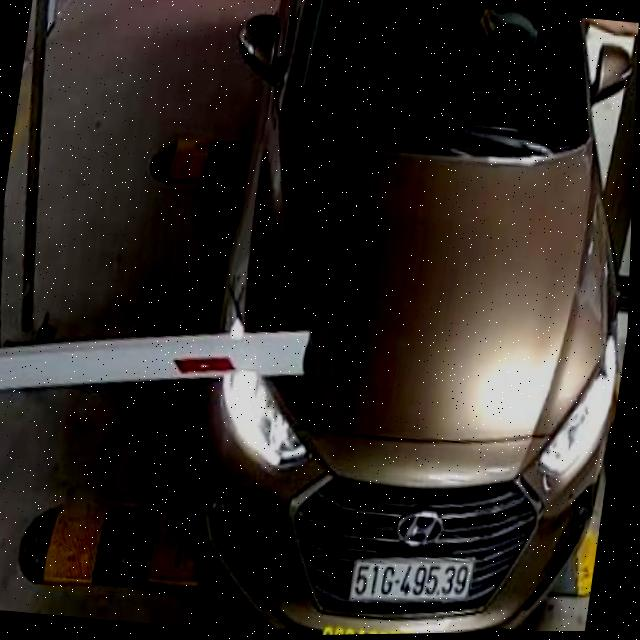car: (149, 0, 640, 637)
plate: (344, 545, 479, 613)
